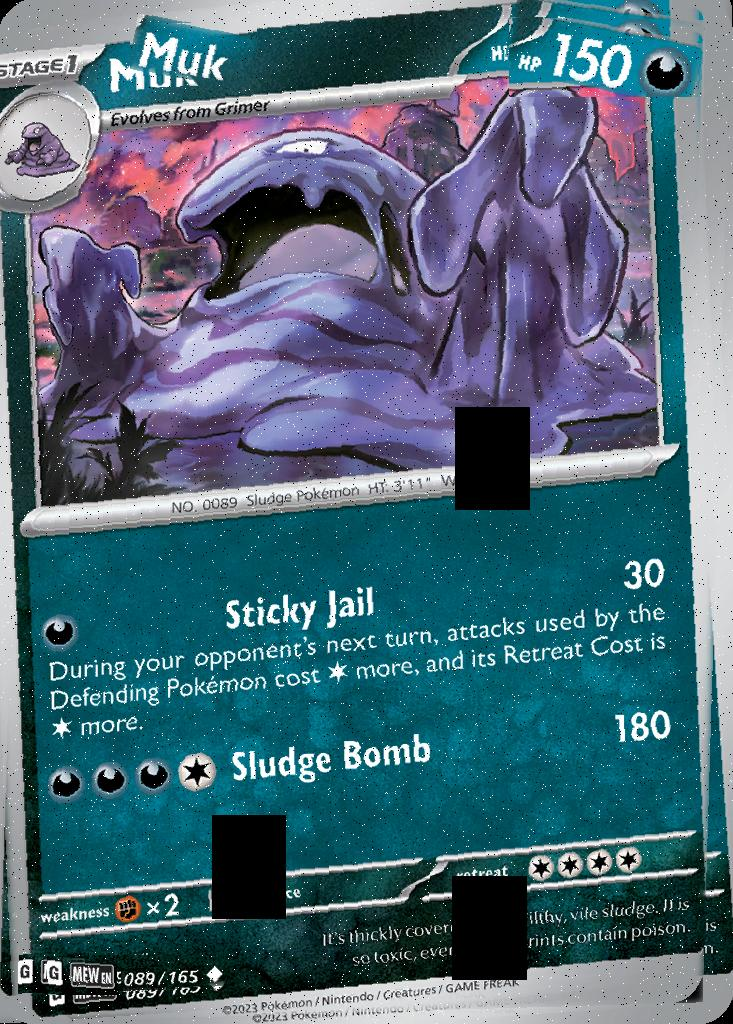card: (0, 0, 733, 1024)
hp: (509, 18, 705, 98)
name: (131, 24, 258, 89)
set num: (120, 960, 230, 993)
set symbol: (47, 957, 117, 996)
